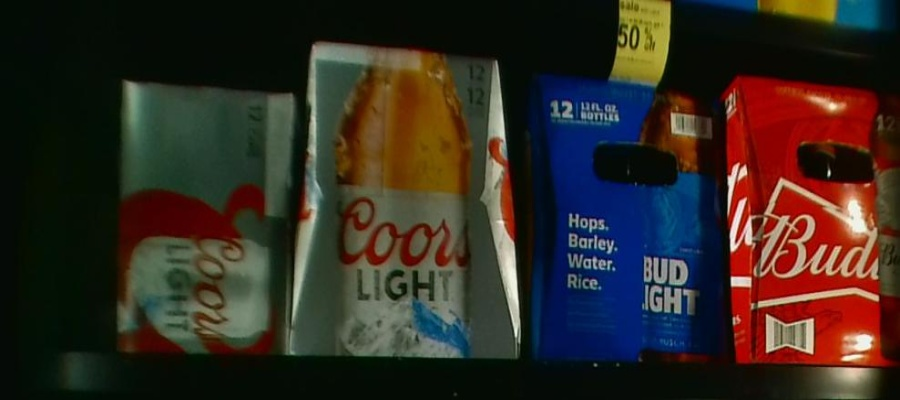bottle: (302, 42, 520, 358), (533, 69, 730, 366), (729, 74, 900, 366), (119, 86, 292, 347)
